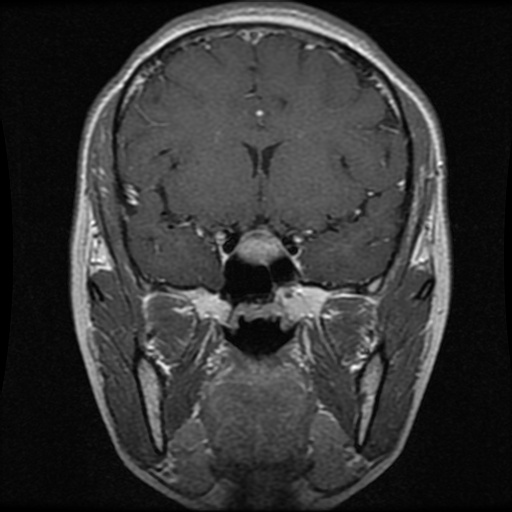pituitary: (236, 226, 286, 263)
